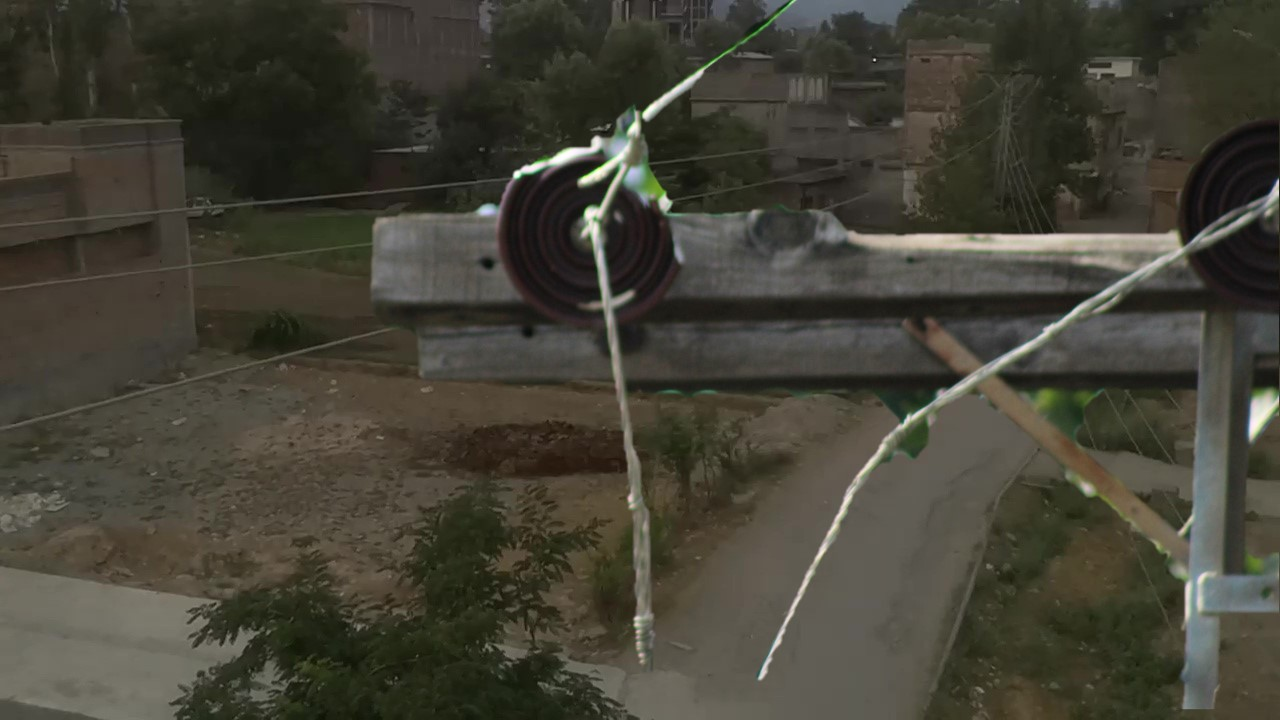defect_disc: (493, 135, 694, 330)
